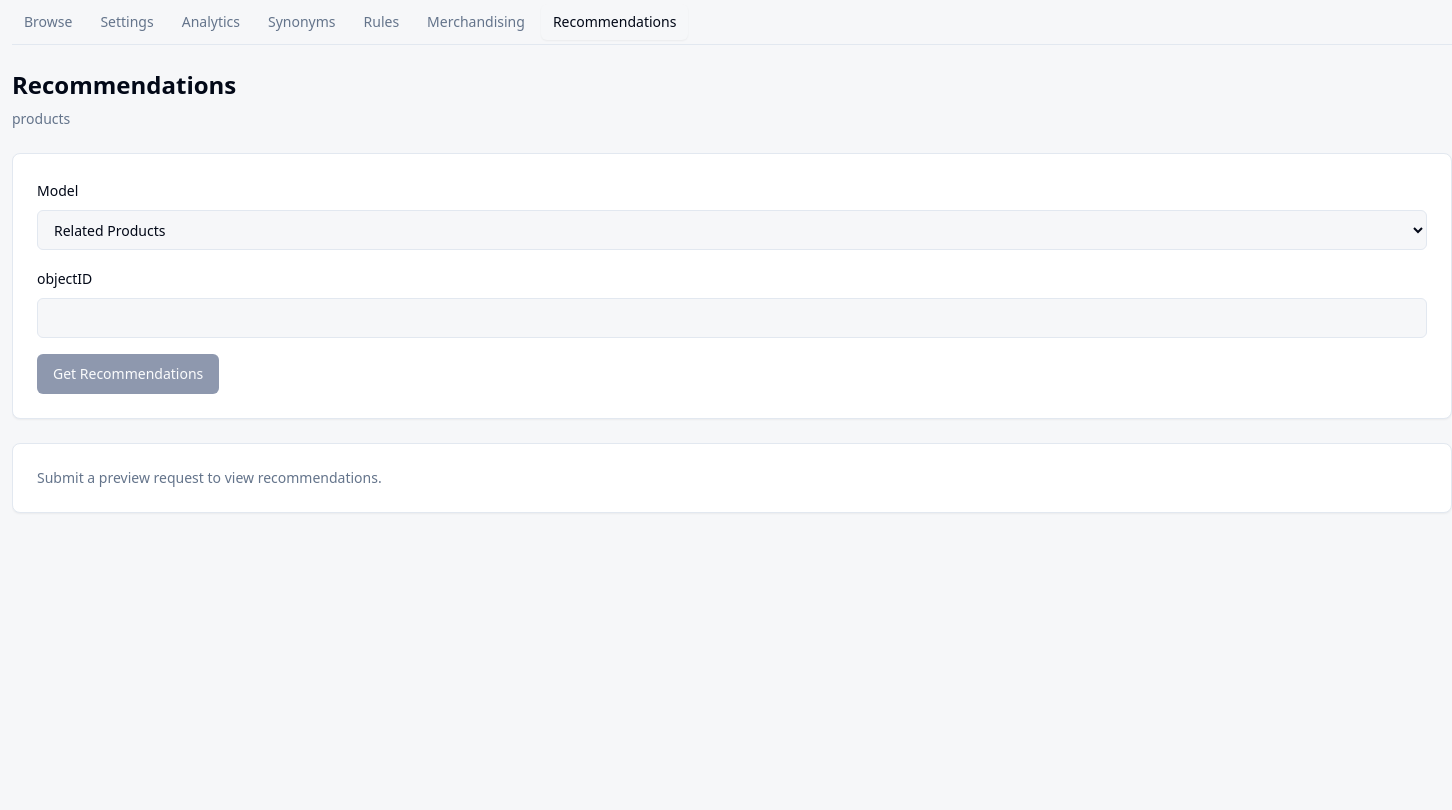
Recommendations page › renders both item-based and trending-facets result shapes
Type "sku-1" into the field with test id "recommendations-object-input" at (732, 318), box [37,298,1427,338]
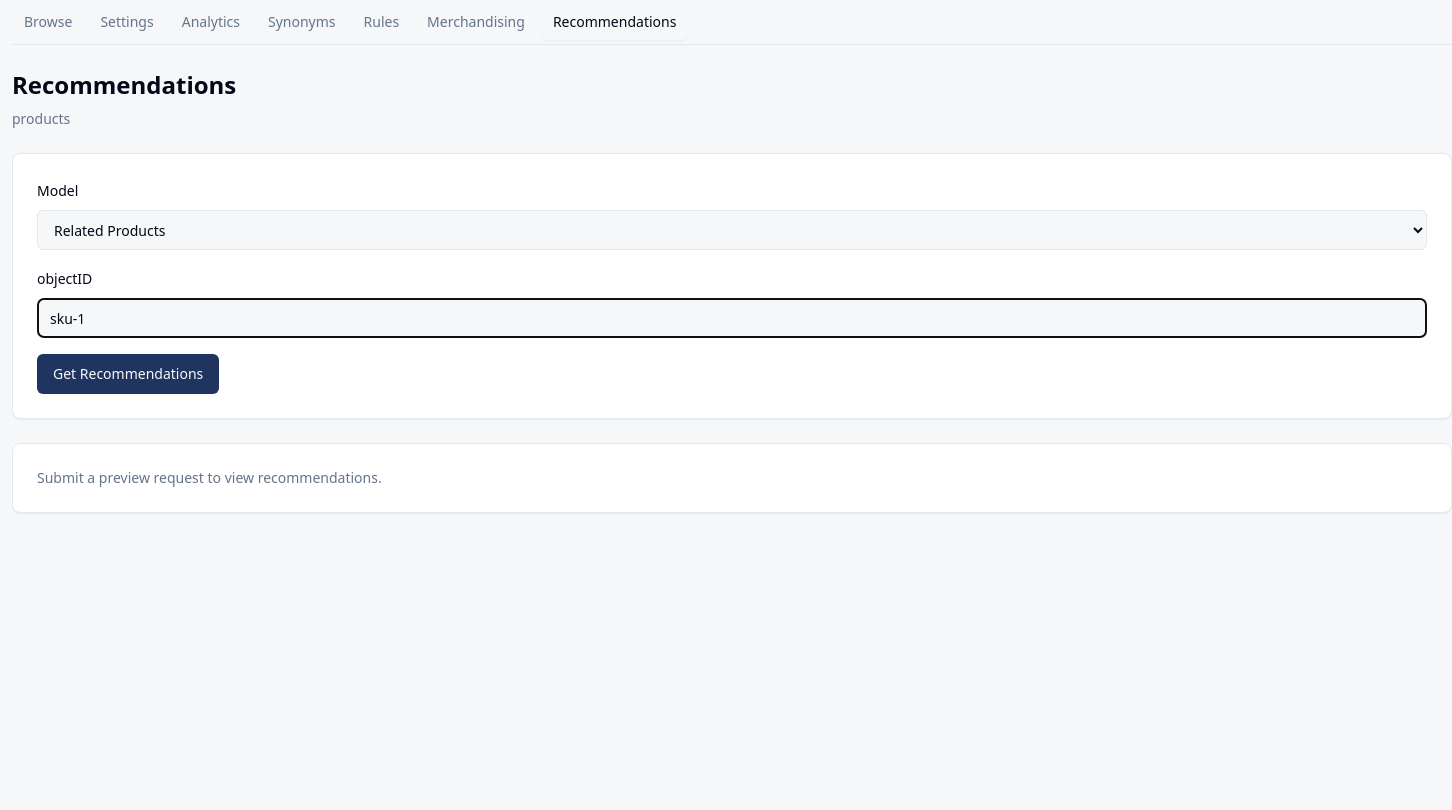
Click the button with test id "get-recommendations-btn" at (128, 374), box [37,354,219,394]
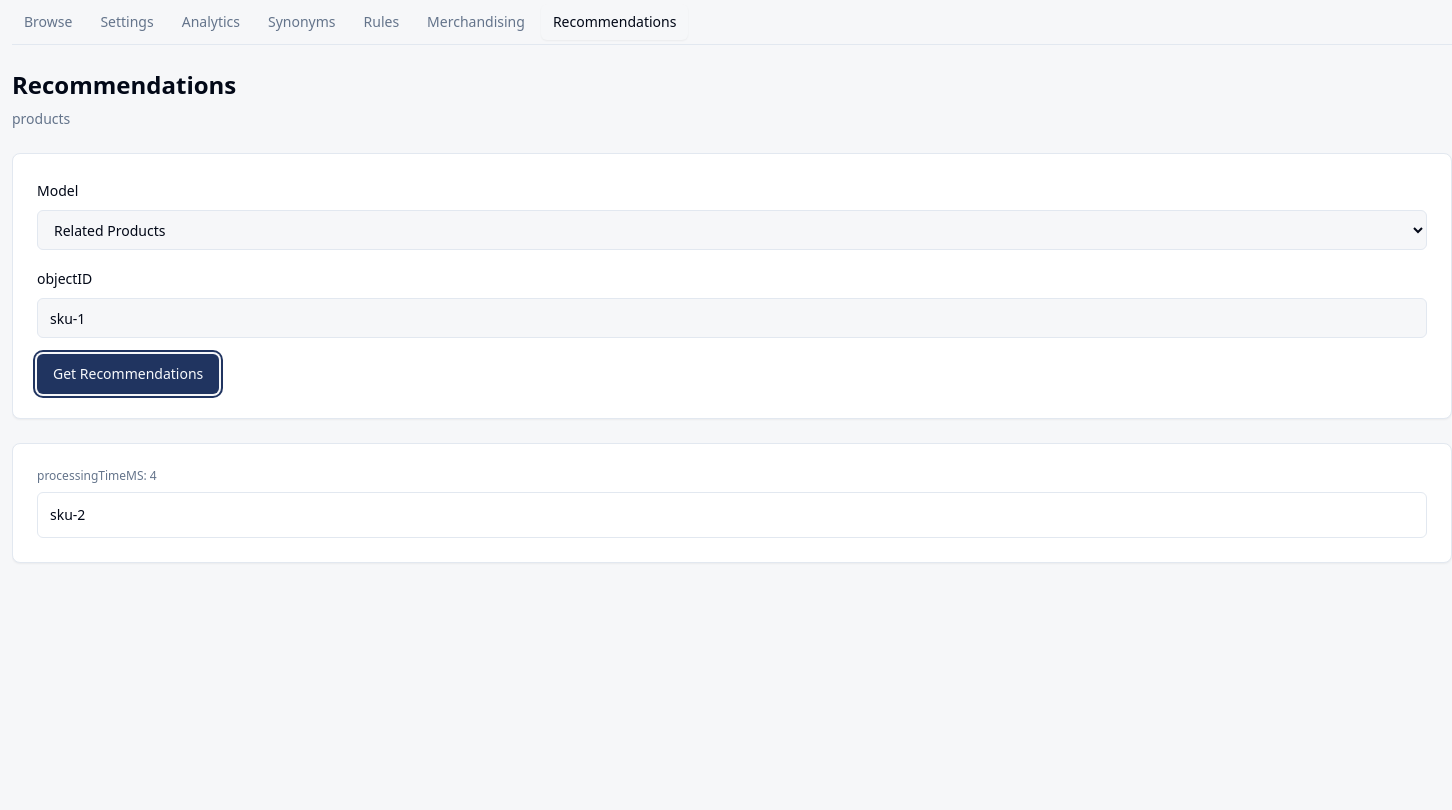
Expected: the element with test id "recommendations-results" shows "sku-2", [50,505,85,524]
Select "Trending Facets" in the dropdown with test id "recommendations-model-select" at (732, 230), box [37,210,1427,250]
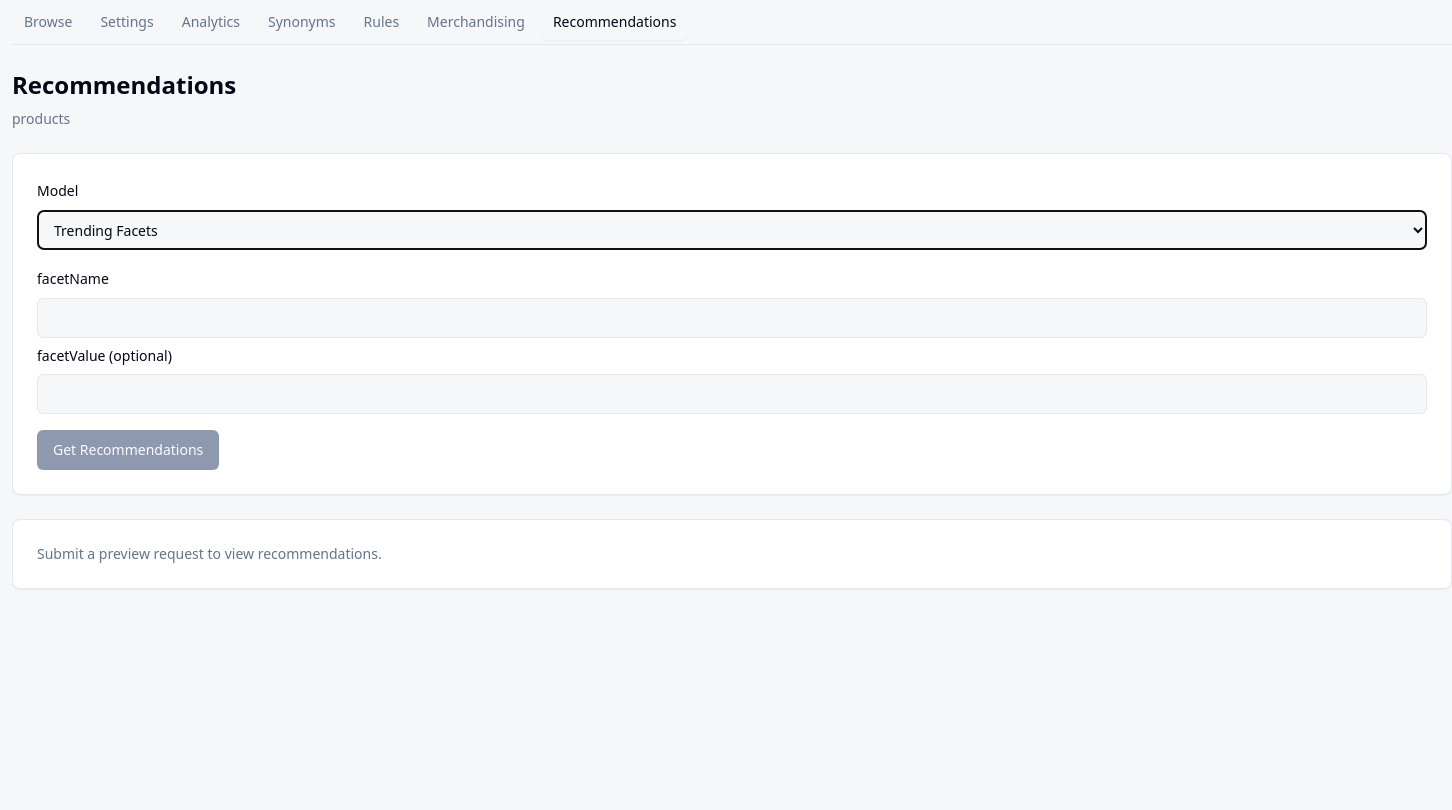
Type "brand" into the field with test id "recommendations-facet-input" at (732, 318), box [37,298,1427,338]
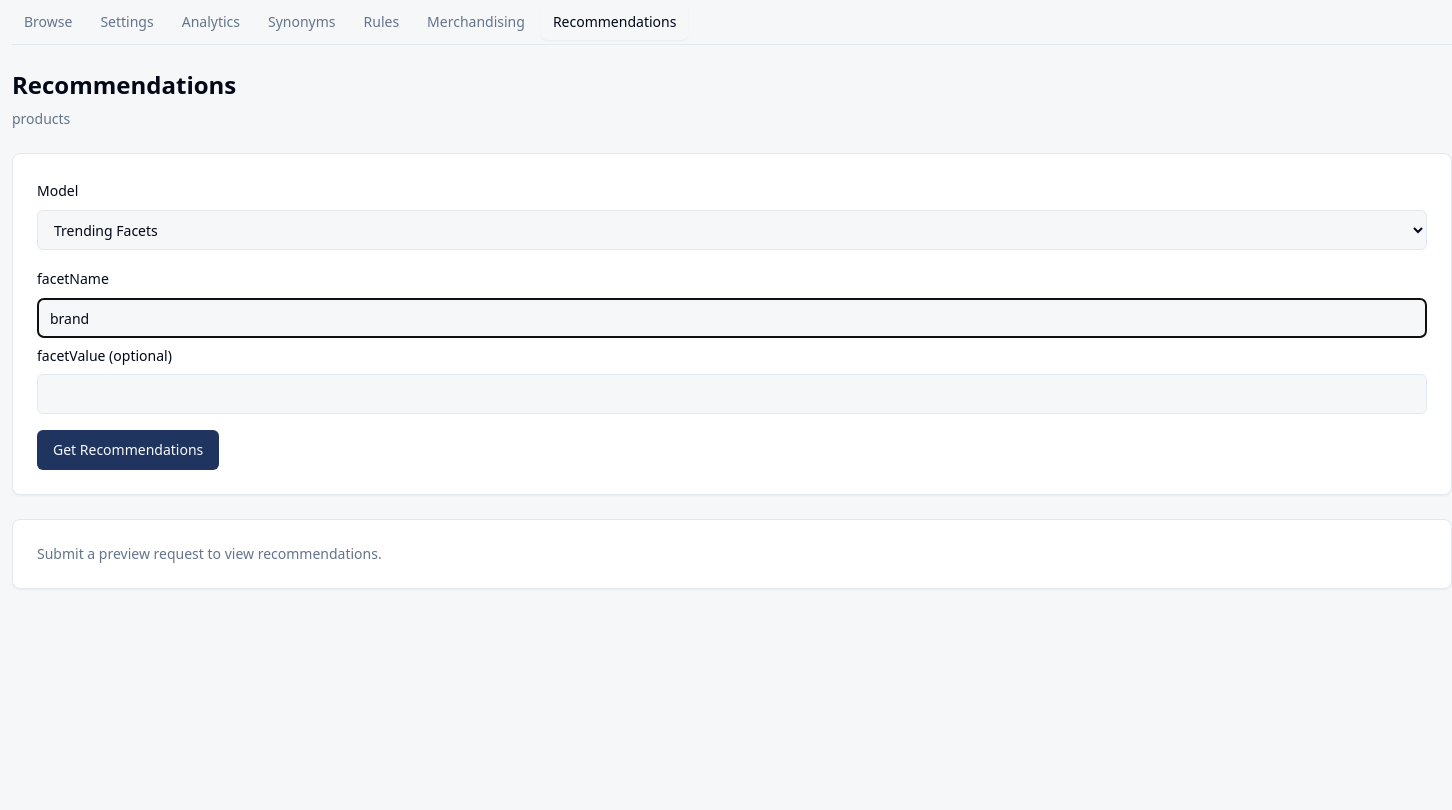
Click the button with test id "get-recommendations-btn" at (128, 450), box [37,430,219,470]
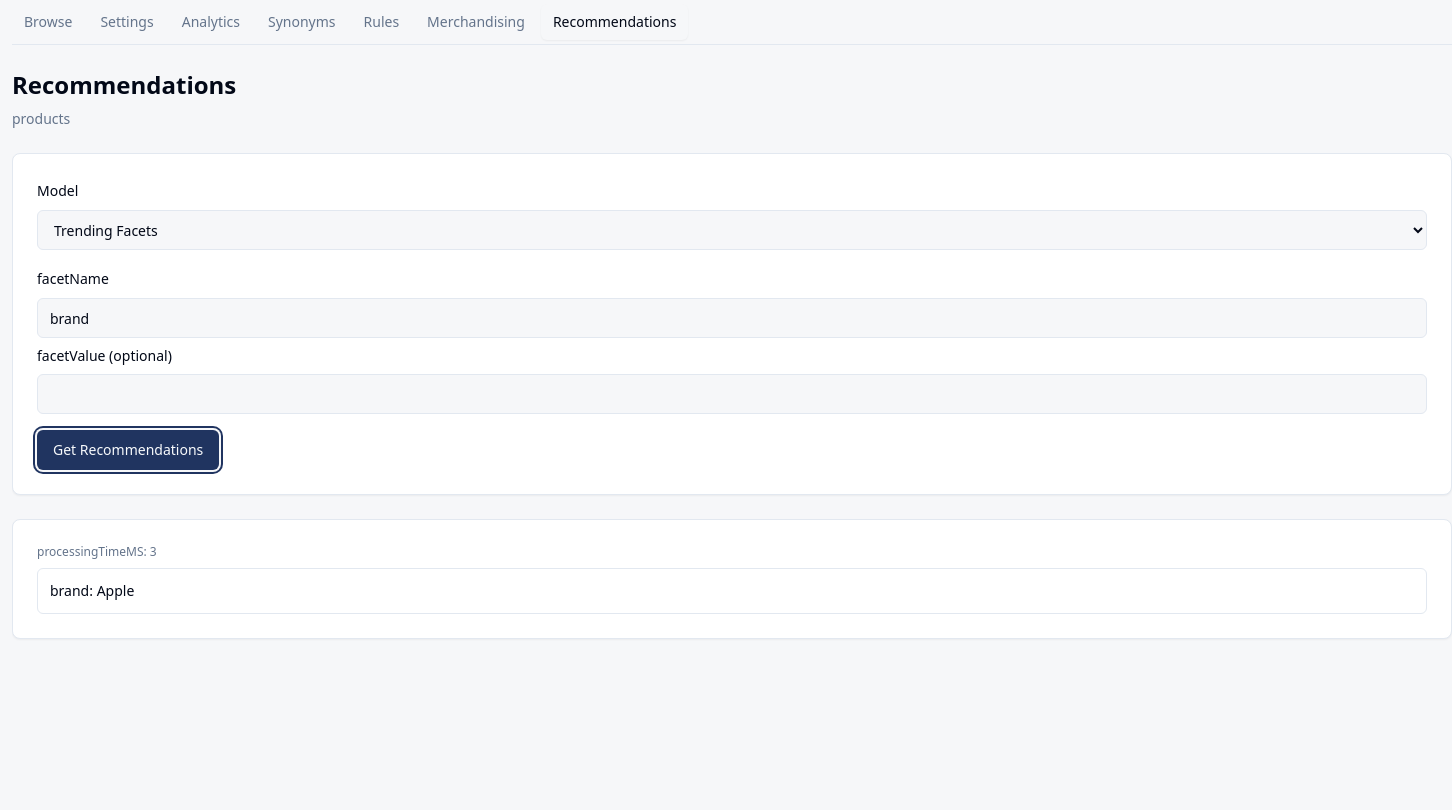
Expected: the element with test id "recommendations-results" shows "brand", [50,581,89,600]
Expected: the element with test id "recommendations-results" shows "Apple", [97,581,134,600]
